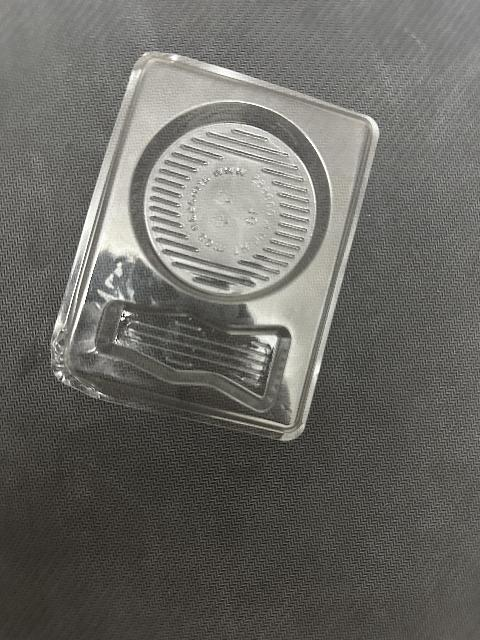Plastik: (57, 51, 375, 438)
